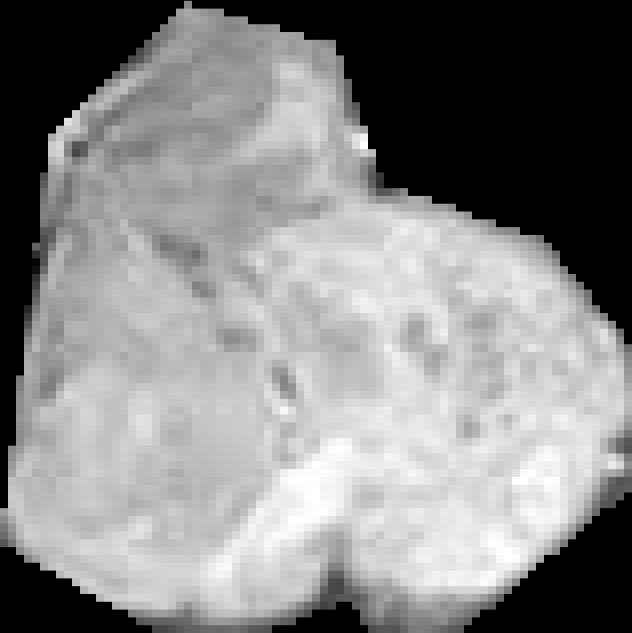tumor_moderate_chance: (0, 1, 632, 633)
